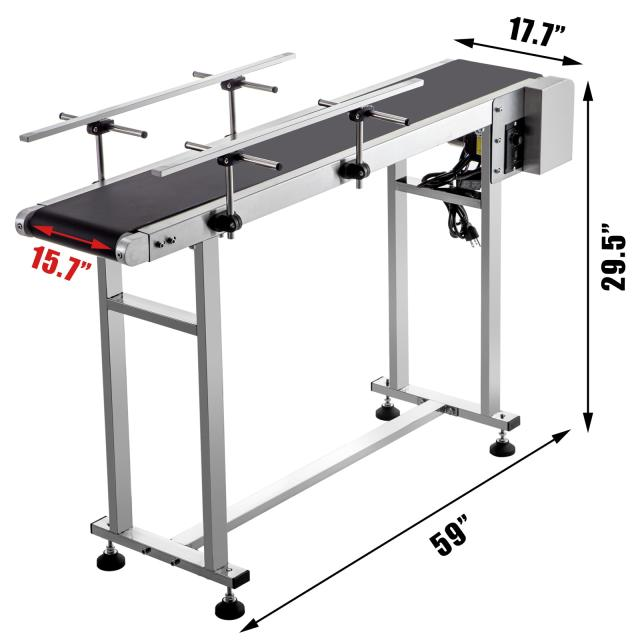conveyor: (12, 35, 640, 404)
